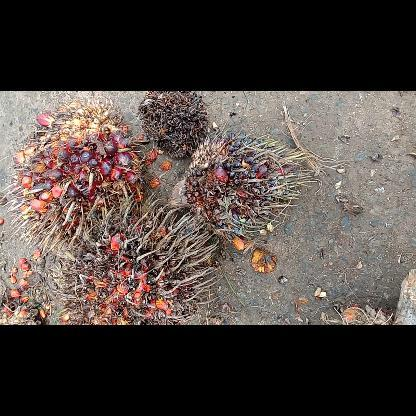TBS abnormal: (168, 126, 318, 248), (134, 91, 214, 161)
TBS masak: (10, 98, 158, 252)
Terlalu masak: (52, 206, 222, 324)
